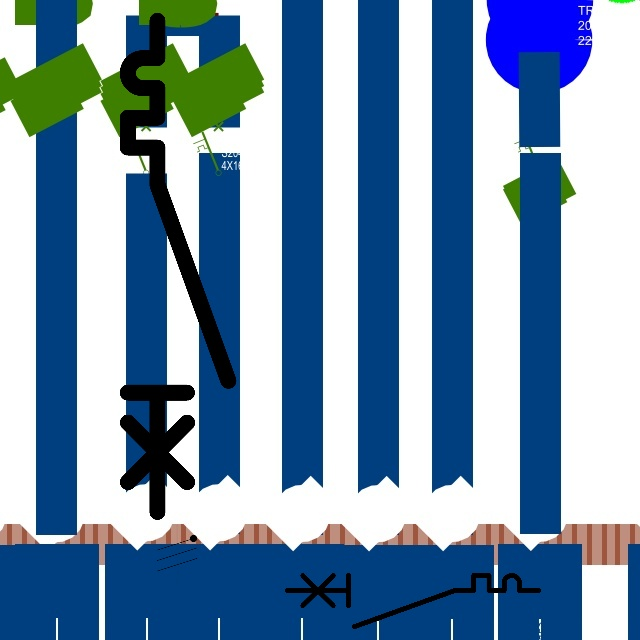interruptor_termomagnetico: (115, 8, 241, 525), (281, 569, 545, 633)
